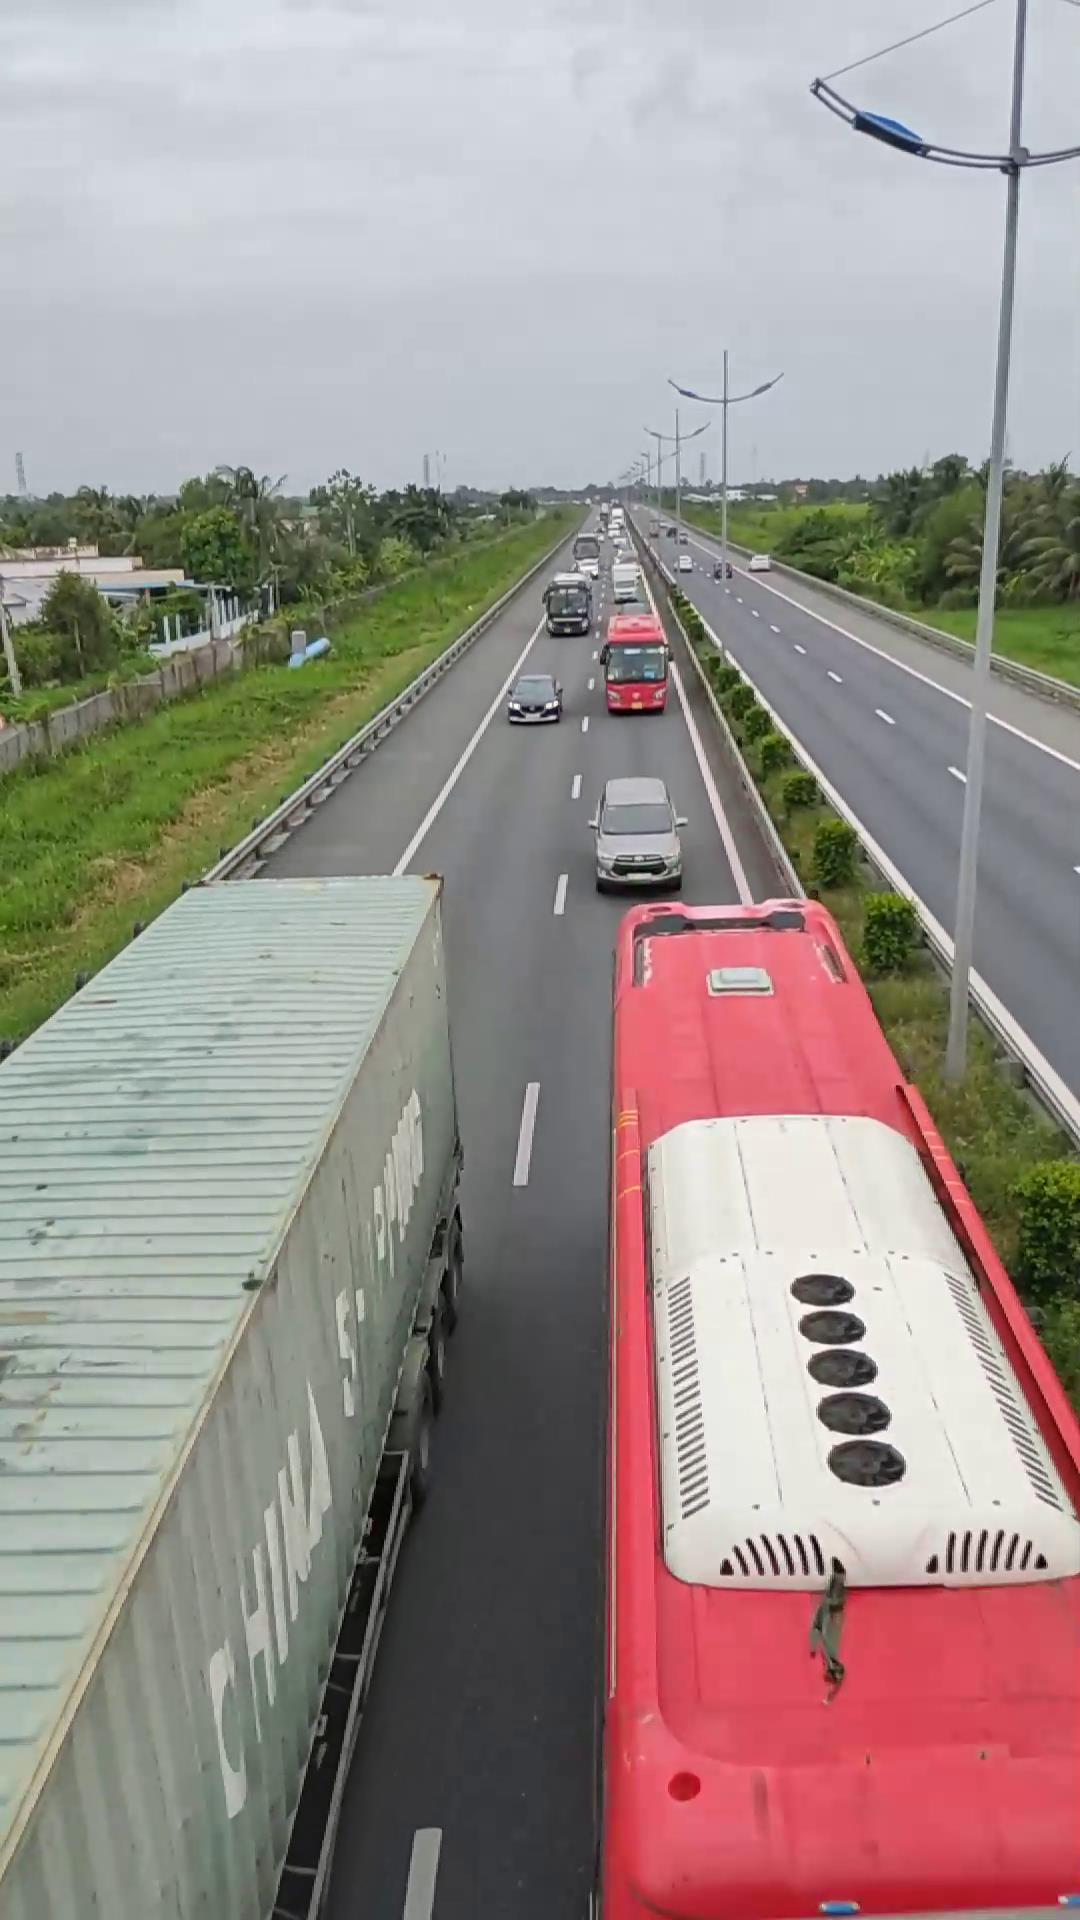bus: (600, 893, 1073, 1912)
car: (587, 774, 684, 891)
container: (0, 876, 468, 1917)
